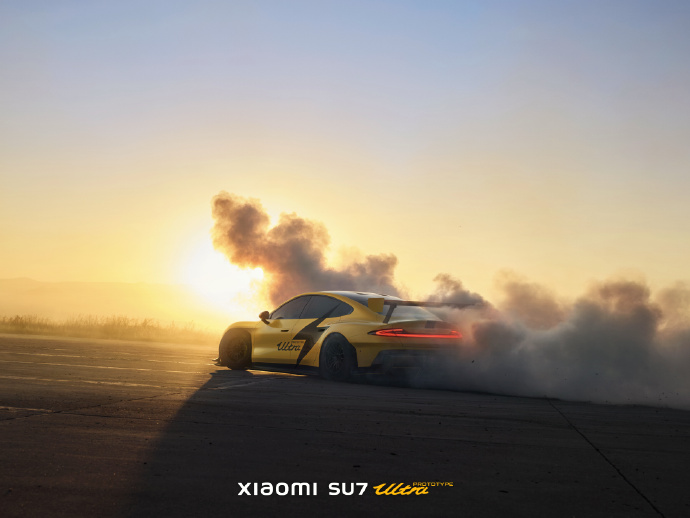su7: (213, 280, 470, 384)
